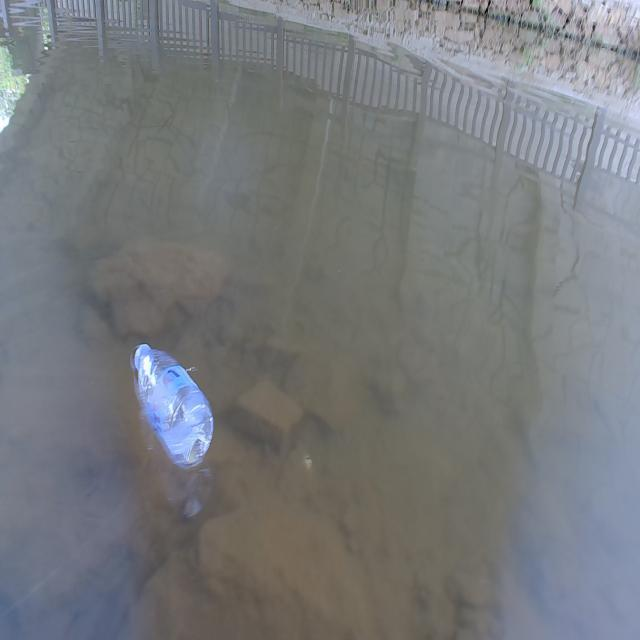garbage: (129, 341, 213, 469)
